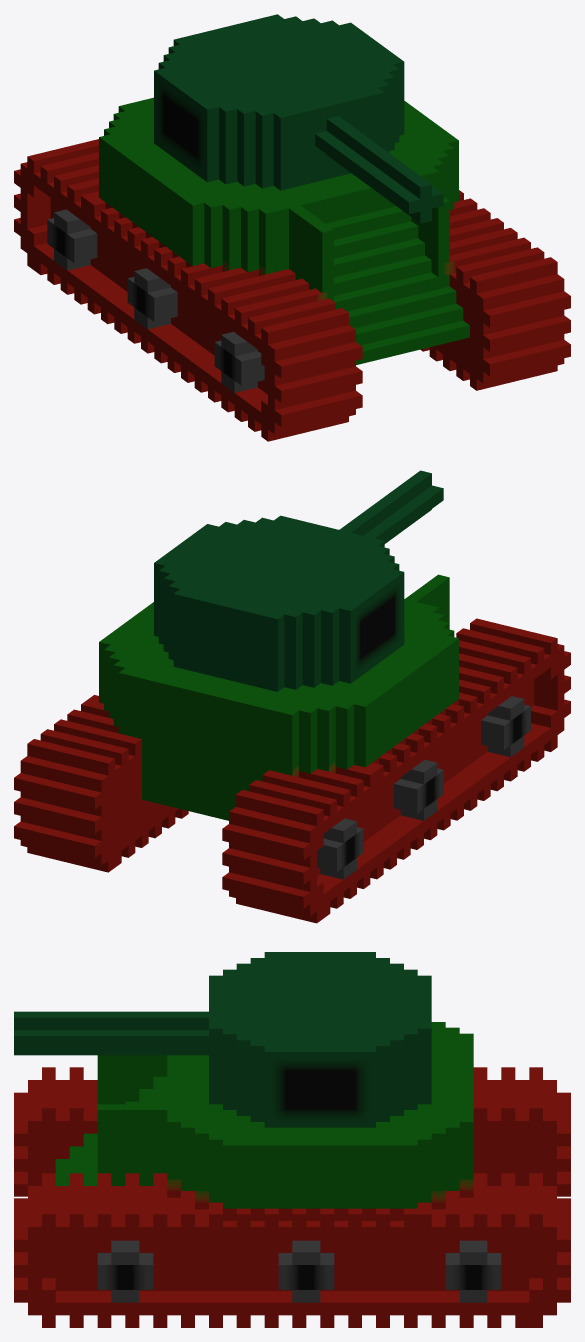
Rendered from Car_20.fbx.
The picture shows the model from 3 angles, top to bottom: view 1: azimuth 30°, elevation 25°; view 2: azimuth 150°, elevation 25°; view 3: azimuth 270°, elevation 25°; orthographic projection. The views are drawn at different scales.
Parts seen in each view (by area): view 1: Car_20; view 2: Car_20; view 3: Car_20.
Part boxes in pixels (box(x1,y1,x2,y2)): Car_20: box(14, 14, 570, 441); Car_20: box(14, 470, 570, 923); Car_20: box(14, 952, 570, 1327).
Size of the model in its own units: 25 by 20 by 40.
Materials: 1 (1 with a texture image).
